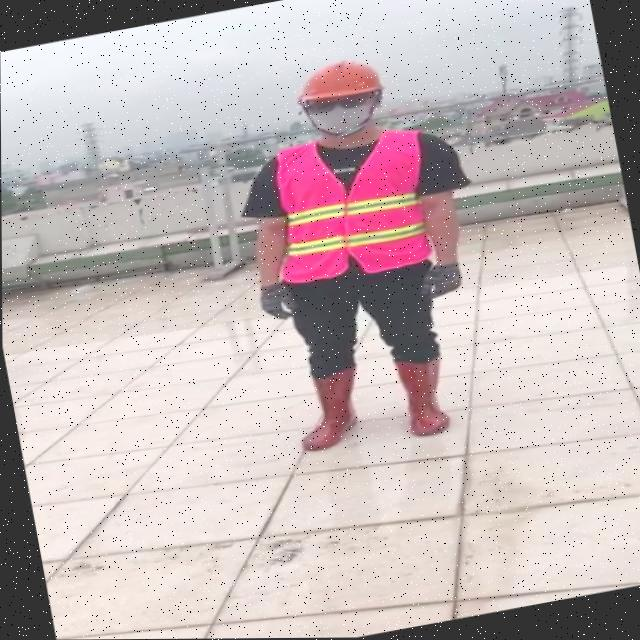goggles_on: (298, 90, 382, 114)
